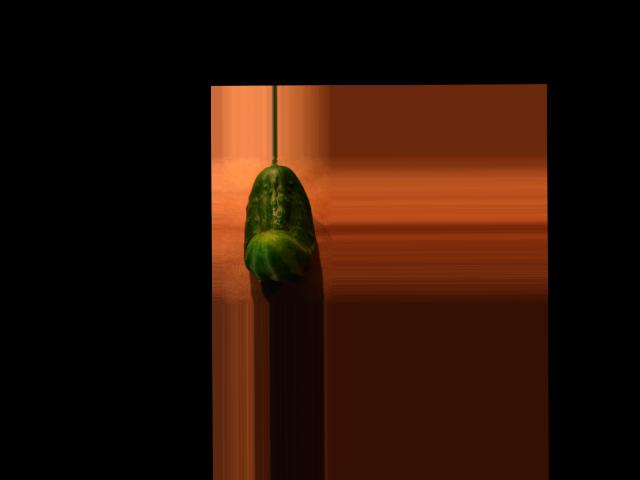cucumber: (242, 164, 314, 282)
